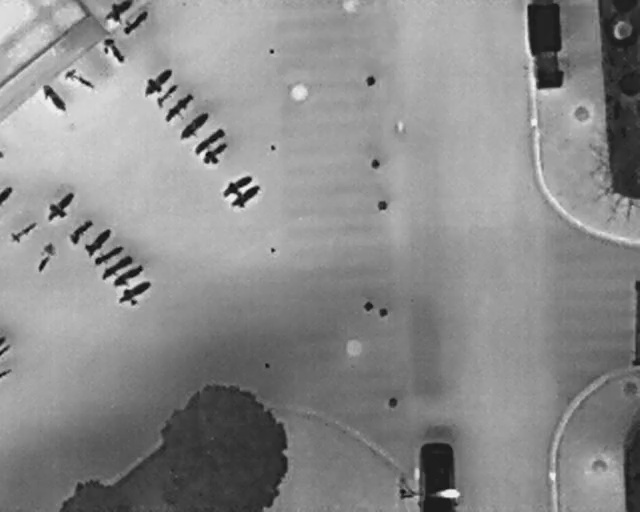Bicycle: (136, 60, 179, 103), (39, 185, 82, 228), (111, 276, 157, 314), (159, 88, 199, 129), (176, 106, 216, 147), (35, 79, 73, 119), (78, 222, 117, 260), (189, 123, 229, 159), (217, 167, 256, 203), (226, 180, 266, 214), (59, 62, 99, 96), (198, 136, 235, 171), (109, 260, 149, 292), (96, 251, 136, 282), (118, 5, 152, 39), (64, 213, 98, 247), (97, 34, 130, 69), (5, 215, 42, 246), (29, 239, 60, 276), (90, 239, 128, 269), (150, 79, 183, 112), (102, 0, 136, 21), (0, 185, 13, 208), (0, 366, 15, 378), (0, 343, 11, 357), (0, 335, 8, 344)
Car: (415, 440, 459, 510)
